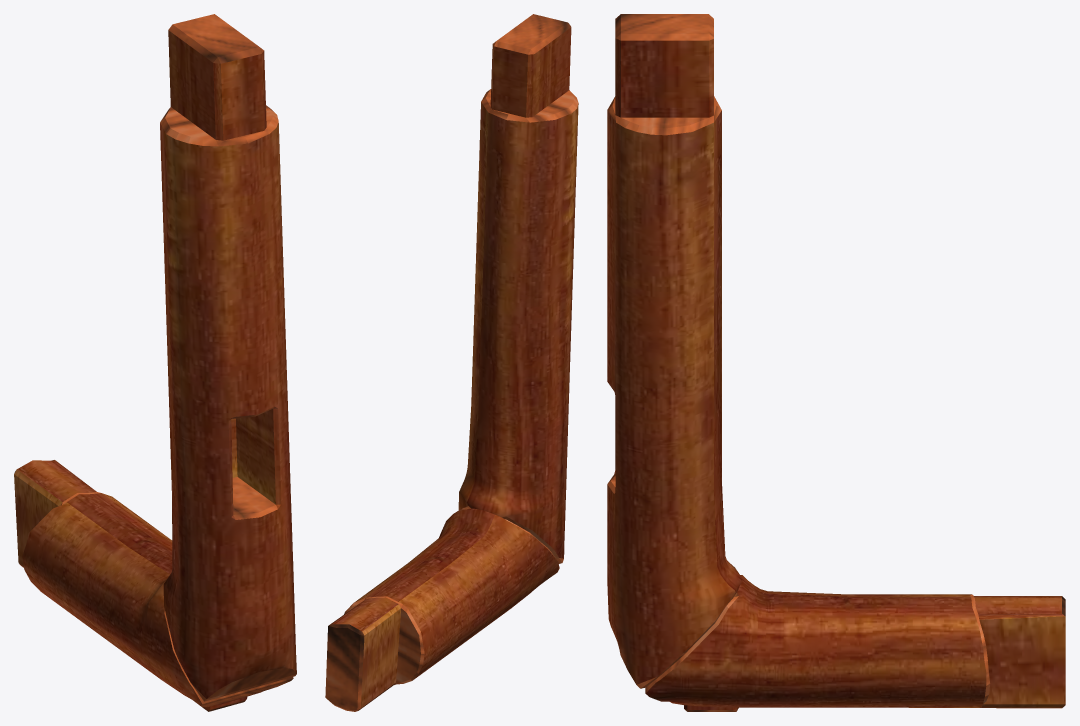
File: ytsy_J_H_shugan_017.FBX
3 renders of one model, left to right at view 1: azimuth 30°, elevation 25°; view 2: azimuth 150°, elevation 25°; view 3: azimuth 270°, elevation 25°, orthographic. The views are drawn at different scales.
Parts seen in each view (by area): view 1: ytsy_J_shugan_017; view 2: ytsy_J_shugan_017; view 3: ytsy_J_shugan_017.
Boxes of the visible parts, left/top/right/bottom form: ytsy_J_shugan_017: left=14, top=14, right=296, bottom=711; ytsy_J_shugan_017: left=325, top=14, right=578, bottom=711; ytsy_J_shugan_017: left=607, top=14, right=1065, bottom=711.
Bounding box in the file's own units: 2.37 × 12.5 × 7.75.
